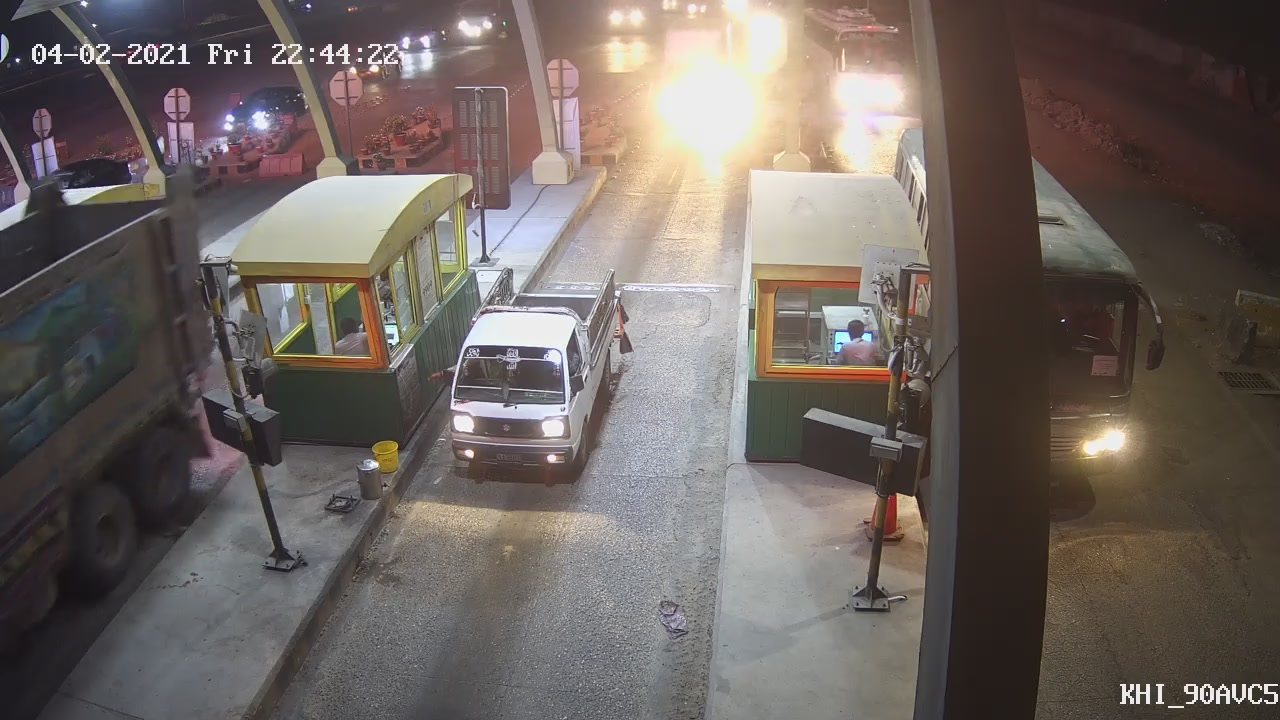F2: (435, 264, 636, 474)
